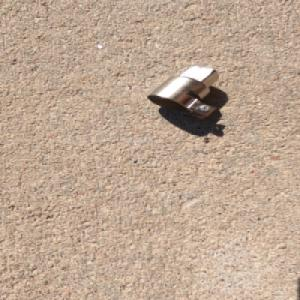MetalPart: (145, 64, 220, 120)
